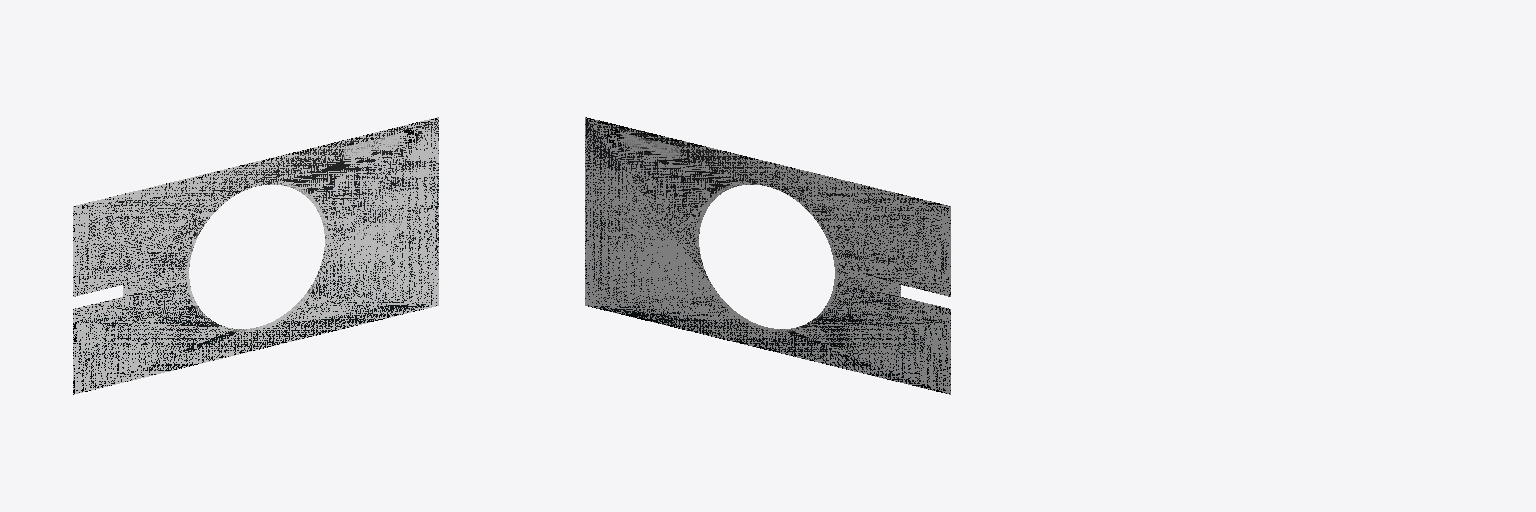
3 renders of one model, left to right at view 1: azimuth 30°, elevation 25°; view 2: azimuth 150°, elevation 25°; view 3: azimuth 270°, elevation 25°, orthographic.
Visible parts, largest first — view 1: 3dw.5334cfe15f80099f15ac[number redacted]aee7/Model/mesh1/mesh1-geometry/; view 2: 3dw.5334cfe15f80099f15ac[number redacted]aee7/Model/mesh1/mesh1-geometry/; view 3: none.
Part boxes in pixels (x1,y1,x2,y2): 3dw.5334cfe15f80099f15ac[number redacted]aee7/Model/mesh1/mesh1-geometry/: (73, 117, 438, 394); 3dw.5334cfe15f80099f15ac[number redacted]aee7/Model/mesh1/mesh1-geometry/: (585, 117, 950, 394).
Bounding box in the file's own units: 1.75 × 0.8615 × 0.
Materials: 2 (1 with a texture image).